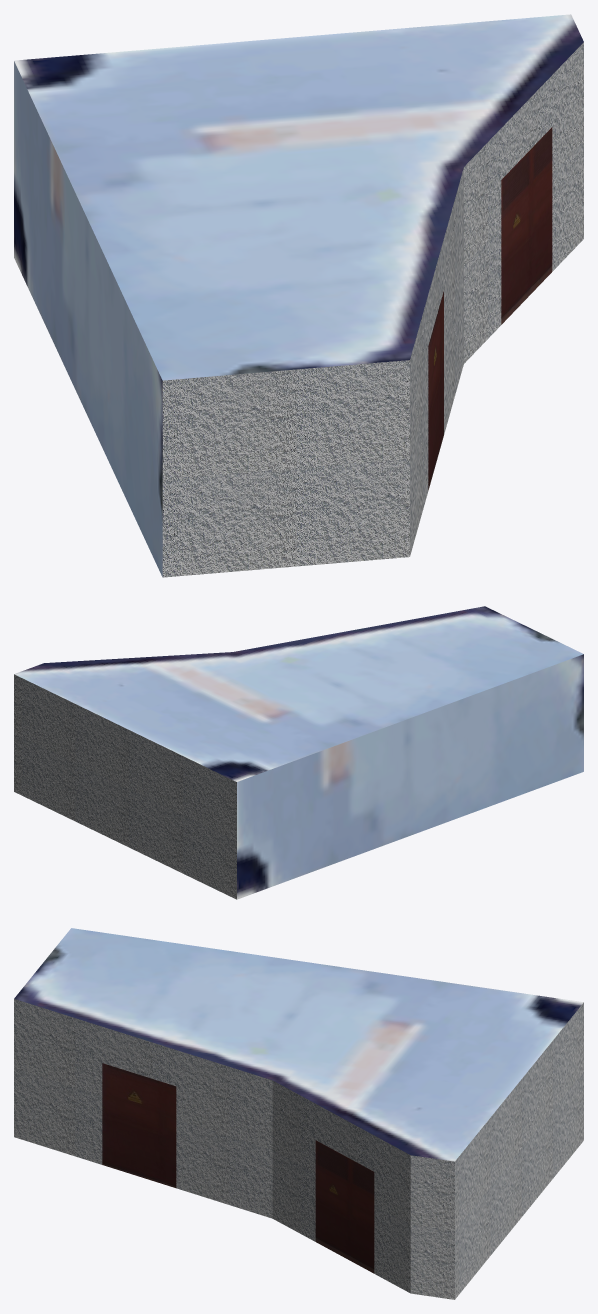
File: Lecu_marronal.gltf
3 renders of one model, top to bottom at view 1: azimuth 30°, elevation 25°; view 2: azimuth 150°, elevation 25°; view 3: azimuth 270°, elevation 25°, orthographic. The views are drawn at different scales.
Parts seen in each view (by area): view 1: marron_almacen; view 2: marron_almacen; view 3: marron_almacen.
Boxes of the visible parts, left/top/right/bottom form: marron_almacen: left=14, top=14, right=583, bottom=577; marron_almacen: left=14, top=606, right=583, bottom=899; marron_almacen: left=14, top=928, right=583, bottom=1299.
Size of the model in its own units: 12.24 by 3.38 by 12.62.
